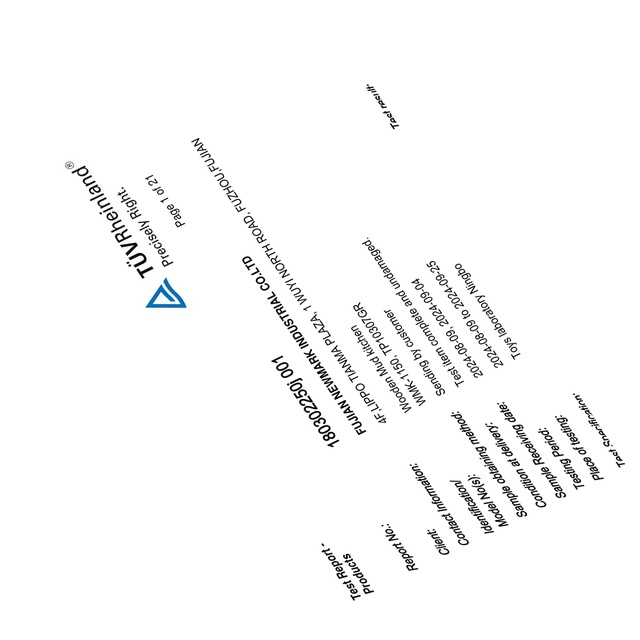tuv_rheinland: (60, 157, 191, 316)
